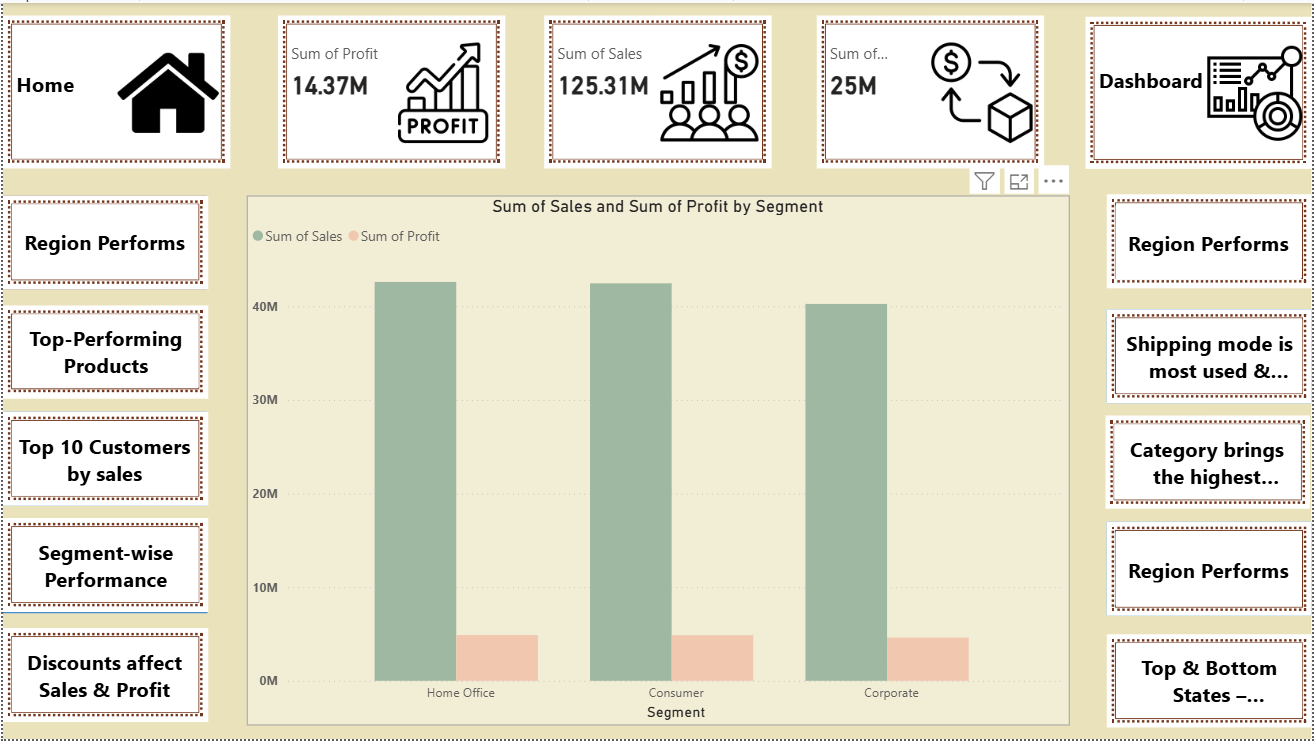

What the dashboard file says about the page in this screenshot:
{"tool":"powerbi","page":{"name":"Page 5","canvas":[1280,720],"ordinal":5},"visuals":[{"type":"textbox","box":[0,0,1280.3,720.4],"z":0},{"type":"clusteredColumnChart","fields":{"Y":["Sum(Sheet1.Sales)","Sum(Sheet1.Profit)"],"Category":["Sheet1.Segment"]},"box":[244.6,283.7,791.2,418.2],"z":1000},{"type":"advancedSlicerVisual","fields":{"Values":["Sheet1.Segment"]},"box":[244.6,184.6,791.2,84.4],"z":2000},{"type":"shape","box":[1079.7,507.7,200.3,91.9],"z":3000},{"type":"shape","box":[1079.7,299.1,200.3,91.9],"z":4000},{"type":"shape","box":[-0.3,188.8,200.3,91.9],"z":5000},{"type":"shape","box":[-0.3,504.4,200.3,91.9],"z":6000},{"type":"shape","box":[-0.3,400.1,200.3,91.9],"z":7000},{"type":"shape","box":[-0.3,611.5,200.3,91.9],"z":8000},{"type":"cardVisual","fields":{"Data":["Sum(Sheet1.Profit)"]},"box":[269,12.3,222.3,149.6],"z":9000},{"type":"cardVisual","fields":{"Data":["Sum(Sheet1.Sales)"]},"box":[529.7,12.3,222.3,149.6],"z":10000},{"type":"cardVisual","fields":{"Data":["Sum(Sheet1.Unit_Price)"]},"box":[795.9,12.3,222.3,149.6],"z":11000},{"type":"cardVisual","fields":{"Data":["Sum(Sheet1.Unit_Price)"]},"box":[1058.6,12.9,221.4,148.6],"z":12000},{"type":"cardVisual","fields":{"Data":["Sum(Sheet1.Quantity)"]},"box":[0,188.3,200.5,91.7],"z":13000},{"type":"cardVisual","fields":{"Data":["Sum(Sheet1.Quantity)"]},"box":[0,295.5,200.9,90.9],"z":14000},{"type":"cardVisual","fields":{"Data":["Sum(Sheet1.Quantity)"]},"box":[0,399.9,200.5,91.7],"z":15000},{"type":"cardVisual","fields":{"Data":["Sum(Sheet1.Quantity)"]},"box":[0,504.2,200.8,91.7],"z":16000},{"type":"cardVisual","fields":{"Data":["Sum(Sheet1.Quantity)"]},"box":[0,611.4,200.5,91.7],"z":17000},{"type":"cardVisual","fields":{"Data":["Sum(Sheet1.Quantity)"]},"box":[1079.3,187.7,200,91.7],"z":18000},{"type":"cardVisual","fields":{"Data":["Sum(Sheet1.Quantity)"]},"box":[1080,299.2,200,91.7],"z":19000},{"type":"cardVisual","fields":{"Data":["Sum(Sheet1.Quantity)"]},"box":[1078.1,403.1,200,91.5],"z":20000},{"type":"cardVisual","fields":{"Data":["Sum(Sheet1.Quantity)"]},"box":[1080,507.7,200,92.3],"z":21000},{"type":"cardVisual","fields":{"Data":["Sum(Sheet1.Quantity)"]},"box":[1079.7,617.1,200,91.5],"z":22000},{"type":"actionButton","box":[9.1,197.3,181.8,72.7],"z":23000},{"type":"actionButton","box":[10,305,181.7,71.7],"z":24000},{"type":"actionButton","box":[9.2,409.2,181.7,72.5],"z":25000},{"type":"actionButton","box":[10,514.2,181.7,72.5],"z":26000},{"type":"actionButton","box":[9.2,620.8,181.7,72.5],"z":27000},{"type":"actionButton","box":[1088.5,197.7,181.7,72.5],"z":28000},{"type":"actionButton","box":[1089.2,309.2,181.7,72.5],"z":29000},{"type":"actionButton","box":[1087.4,412.3,181.5,73.1],"z":30000},{"type":"actionButton","box":[1088.5,517.7,181.5,72.3],"z":31000},{"type":"actionButton","box":[1089,626.4,181.5,72.3],"z":32000},{"type":"cardVisual","fields":{"Data":["Sum(Sheet1.Unit_Price)"]},"box":[0,12.3,222.3,149.6],"z":33000},{"type":"actionButton","box":[1068.6,21.4,200,131.4],"z":34000},{"type":"image","box":[1170,34.3,108.6,105.7],"z":35000}]}

Visuals, with their boxes in screenshot pixels (x1, y1, x2, y2), scaled from the page's 1280x720 canvas onto the 1314x741 screenshot:
textbox: 0/0/1313/740
clusteredColumnChart - Sum(Sheet1.Sales) x Sum(Sheet1.Profit): 251/292/1063/722
advancedSlicerVisual - Sheet1.Segment: 251/190/1063/277
shape: 1108/523/1313/617
shape: 1108/308/1313/402
shape: 0/194/205/289
shape: 0/519/205/614
shape: 0/412/205/506
shape: 0/629/205/724
cardVisual - Sum(Sheet1.Profit): 276/13/504/167
cardVisual - Sum(Sheet1.Sales): 544/13/772/167
cardVisual - Sum(Sheet1.Unit_Price): 817/13/1045/167
cardVisual - Sum(Sheet1.Unit_Price): 1087/13/1313/166
cardVisual - Sum(Sheet1.Quantity): 0/194/206/288
cardVisual - Sum(Sheet1.Quantity): 0/304/206/398
cardVisual - Sum(Sheet1.Quantity): 0/412/206/506
cardVisual - Sum(Sheet1.Quantity): 0/519/206/613
cardVisual - Sum(Sheet1.Quantity): 0/629/206/724
cardVisual - Sum(Sheet1.Quantity): 1108/193/1313/288
cardVisual - Sum(Sheet1.Quantity): 1109/308/1313/402
cardVisual - Sum(Sheet1.Quantity): 1107/415/1312/509
cardVisual - Sum(Sheet1.Quantity): 1109/523/1313/617
cardVisual - Sum(Sheet1.Quantity): 1108/635/1313/729
actionButton: 9/203/196/278
actionButton: 10/314/197/388
actionButton: 9/421/196/496
actionButton: 10/529/197/604
actionButton: 9/639/196/714
actionButton: 1117/203/1304/278
actionButton: 1118/318/1305/393
actionButton: 1116/424/1303/500
actionButton: 1117/533/1304/607
actionButton: 1118/645/1304/719
cardVisual - Sum(Sheet1.Unit_Price): 0/13/228/167
actionButton: 1097/22/1302/157
image: 1201/35/1313/144
